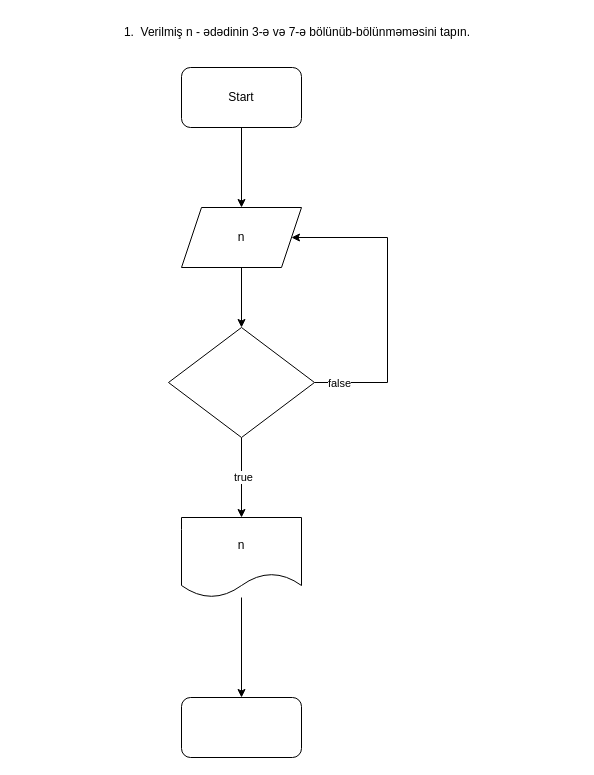
The diagram is 594 pixels wide and 775 high, and some of its shapes have lost their labels. Each missing label, with the centre of its shape:
"End" belongs at (241,727).
"n%3==0 && m%7==0" belongs at (241,382).
